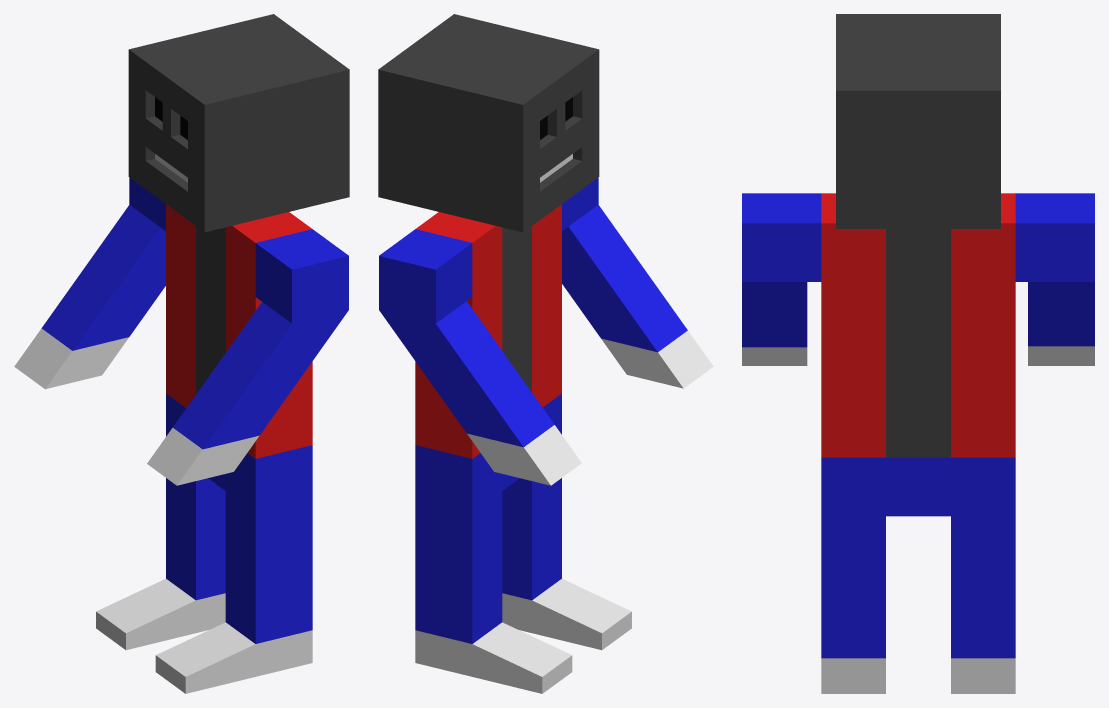
File: robot.fbx
3 renders of one model, left to right at view 1: azimuth 30°, elevation 25°; view 2: azimuth 150°, elevation 25°; view 3: azimuth 270°, elevation 25°, orthographic. The views are drawn at different scales.
Visible parts, largest first — view 1: Cube; view 2: Cube; view 3: Cube.
Part boxes in pixels (x1,y1,x2,y2): Cube: (14,14,349,693); Cube: (378,14,713,693); Cube: (742,14,1094,693).
Size of the model in its own units: 9.89 by 7.59 by 19.38.
